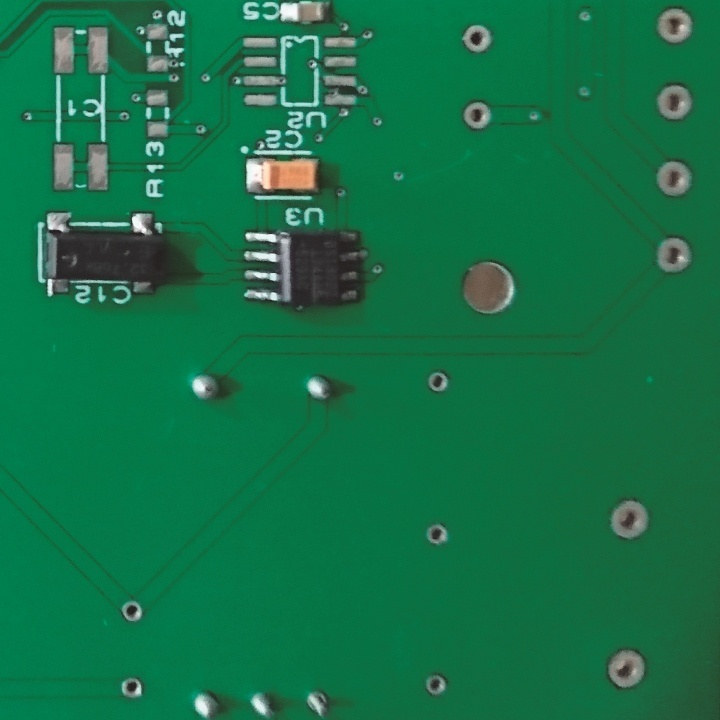F: (602, 646, 648, 694), (607, 498, 653, 543), (654, 232, 692, 277), (654, 80, 692, 124), (651, 6, 694, 44), (656, 160, 694, 201), (460, 23, 496, 58), (461, 99, 493, 132), (302, 687, 331, 718), (425, 366, 449, 399), (119, 673, 147, 700), (424, 523, 449, 552), (424, 672, 447, 699), (119, 600, 144, 623)
